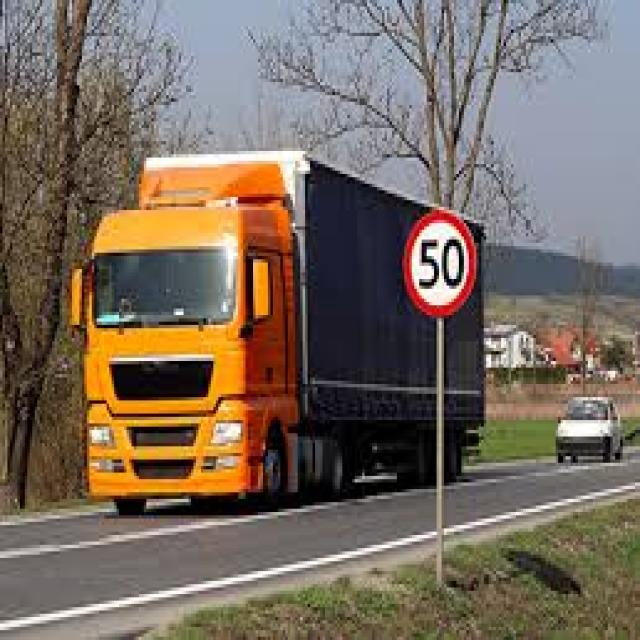Speed limit 50: (400, 205, 480, 320)
